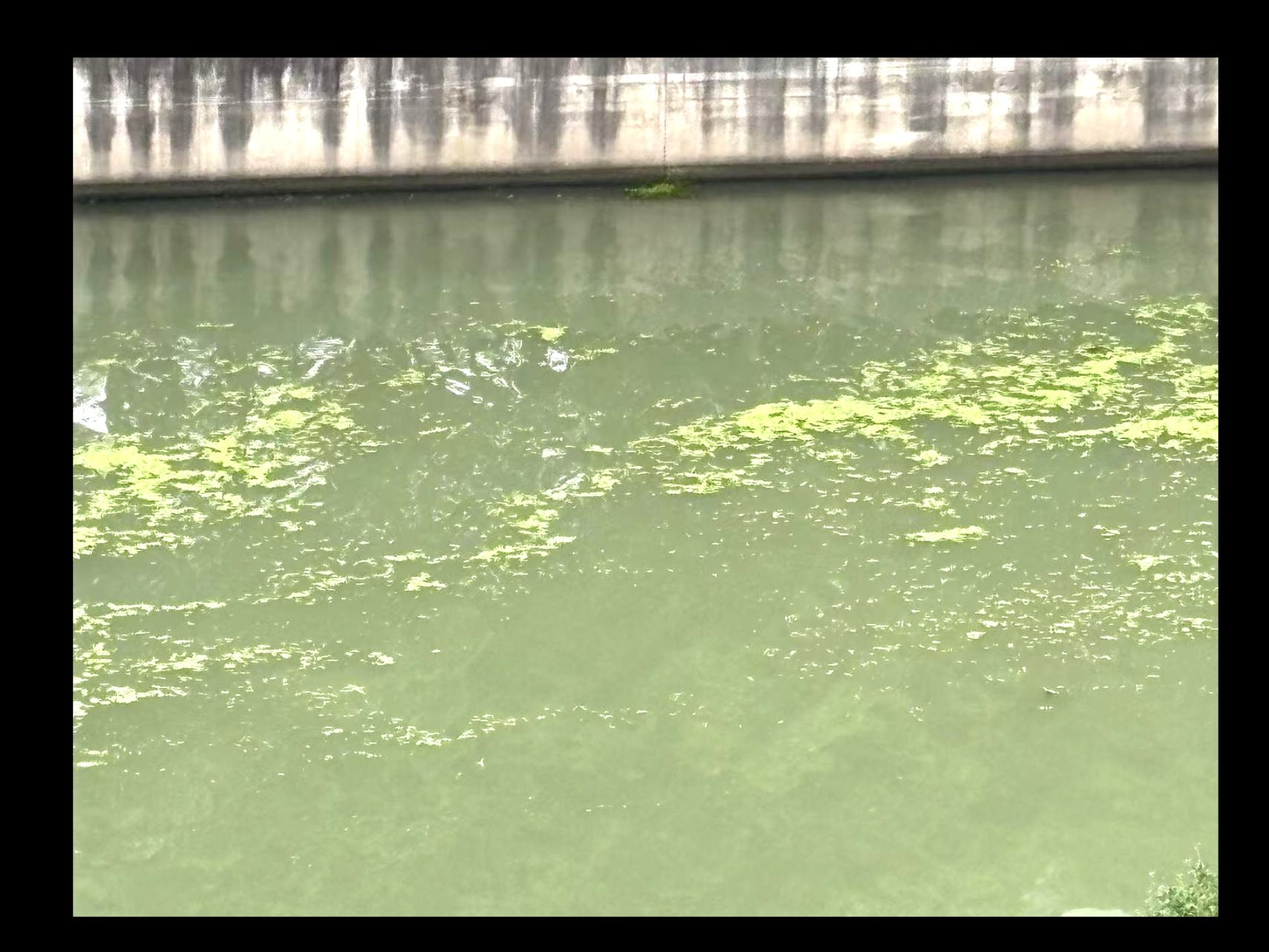Other: (74, 402, 344, 553), (1067, 302, 1209, 445), (685, 396, 906, 455), (919, 348, 1059, 437), (74, 644, 205, 701), (474, 498, 564, 572), (910, 523, 985, 539), (541, 321, 565, 342)
